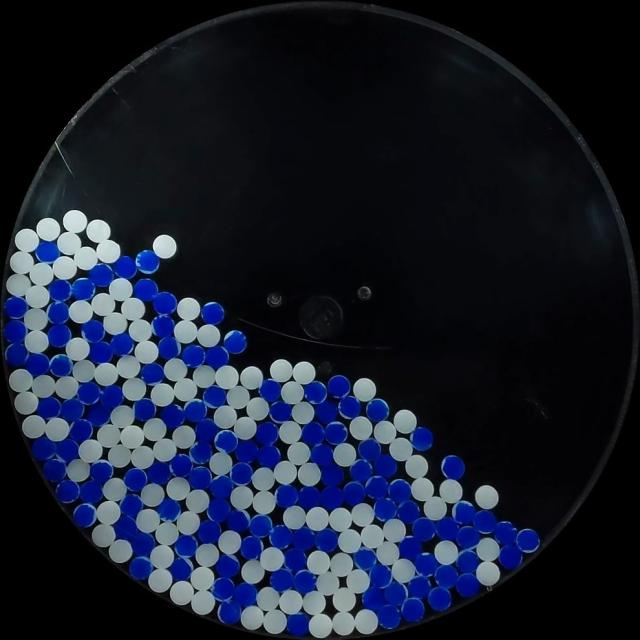pmmma-blanca: (284, 442, 314, 467), (189, 565, 215, 591), (190, 588, 216, 614), (330, 610, 356, 636), (68, 300, 95, 325), (169, 580, 194, 606), (119, 424, 145, 449), (172, 377, 198, 402), (24, 307, 50, 332), (475, 560, 500, 586), (176, 509, 202, 534), (474, 537, 500, 562), (28, 262, 54, 287), (24, 329, 50, 354), (251, 489, 276, 514), (13, 390, 38, 415), (353, 609, 378, 634), (21, 414, 46, 439), (438, 478, 463, 503), (167, 476, 192, 501), (8, 368, 34, 392), (422, 496, 448, 520), (44, 417, 70, 441), (31, 374, 57, 398), (52, 256, 78, 280), (78, 438, 103, 462), (148, 568, 173, 592), (251, 467, 275, 492), (350, 502, 374, 527), (259, 547, 284, 571), (352, 378, 377, 402), (73, 246, 98, 270), (163, 358, 188, 382), (360, 523, 384, 548), (332, 442, 356, 467), (278, 590, 303, 614), (94, 362, 119, 386), (122, 377, 147, 401), (214, 365, 239, 389), (338, 528, 362, 553), (150, 544, 174, 569), (474, 484, 498, 509), (332, 588, 356, 613), (173, 319, 198, 343), (345, 568, 370, 592), (152, 234, 177, 258), (262, 608, 286, 633), (305, 506, 329, 531), (14, 228, 39, 252), (6, 273, 31, 297), (227, 385, 252, 409), (140, 483, 165, 507), (231, 486, 256, 510), (240, 559, 264, 584), (304, 550, 329, 574), (314, 570, 338, 595), (64, 458, 90, 481), (194, 543, 220, 566), (404, 454, 428, 478), (136, 508, 160, 532), (233, 416, 257, 440), (434, 540, 458, 564), (348, 416, 372, 440), (116, 355, 140, 379), (297, 462, 321, 486), (218, 530, 242, 554), (410, 477, 434, 501), (329, 552, 353, 576), (108, 538, 132, 562), (36, 217, 60, 241), (72, 359, 96, 383), (256, 587, 280, 611), (54, 375, 78, 399), (186, 489, 210, 513), (26, 284, 50, 308), (240, 606, 264, 630), (169, 580, 193, 604), (96, 239, 120, 263), (438, 479, 462, 503), (214, 404, 238, 428), (95, 499, 119, 523), (90, 523, 114, 547), (65, 338, 90, 361), (134, 340, 159, 363), (86, 219, 111, 242), (9, 251, 34, 274), (130, 445, 155, 468), (393, 409, 416, 434), (57, 232, 82, 255), (120, 298, 146, 320), (63, 210, 87, 233), (302, 591, 325, 615), (270, 359, 294, 382), (239, 366, 263, 389), (90, 293, 114, 316), (196, 324, 220, 347), (292, 361, 316, 384), (177, 297, 201, 320), (373, 420, 397, 443), (128, 319, 152, 342), (281, 380, 304, 404), (309, 614, 332, 638), (193, 364, 216, 388), (110, 404, 134, 427), (280, 420, 304, 443), (328, 506, 351, 530), (108, 278, 133, 300), (391, 559, 416, 581), (170, 425, 196, 446), (389, 437, 412, 460), (155, 522, 178, 545), (104, 312, 128, 334), (151, 384, 175, 406), (96, 424, 122, 444), (265, 609, 287, 632), (248, 398, 270, 421), (284, 507, 307, 529), (274, 462, 297, 484), (374, 542, 397, 564), (153, 439, 177, 460), (108, 445, 130, 467), (144, 418, 166, 440), (292, 402, 314, 424), (384, 519, 406, 541), (104, 478, 125, 500), (209, 453, 232, 473)
